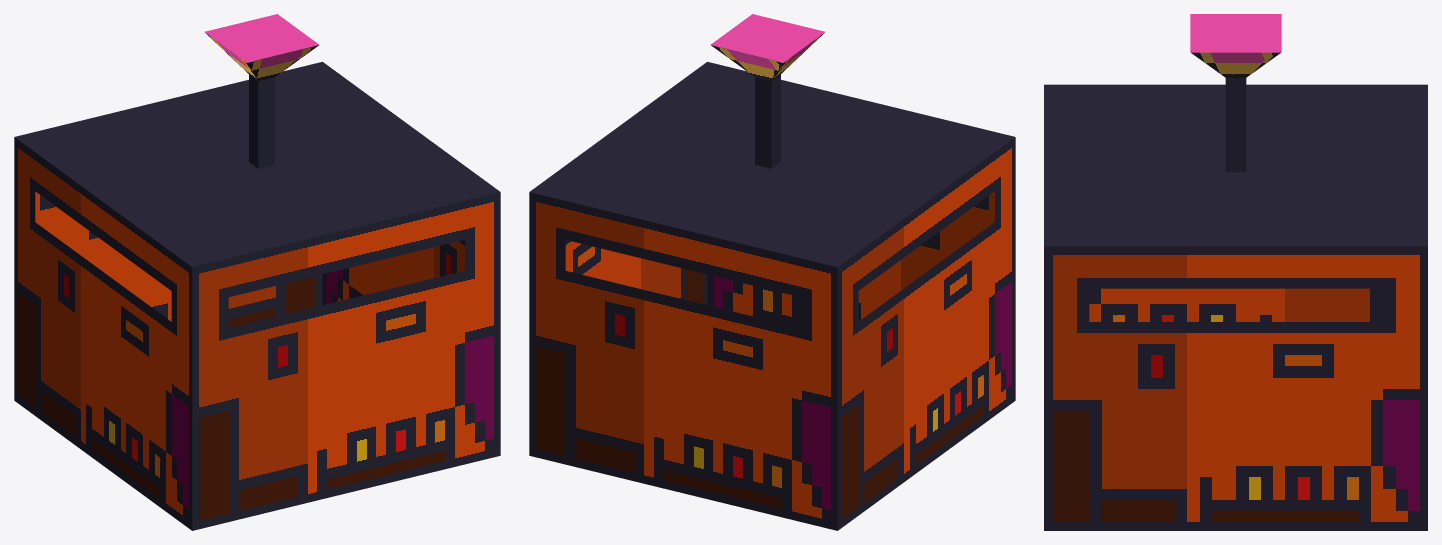
The model's file is edificioD1.fbx.
3 renders of one model, left to right at view 1: azimuth 30°, elevation 25°; view 2: azimuth 150°, elevation 25°; view 3: azimuth 270°, elevation 25°, orthographic. The views are drawn at different scales.
Parts seen in each view (by area): view 1: edificioD1; view 2: edificioD1; view 3: edificioD1.
Part boxes in pixels (box(x1,y1,x2,y2)): edificioD1: box(14, 14, 500, 530); edificioD1: box(529, 14, 1015, 530); edificioD1: box(1044, 14, 1427, 530).
Bounding box in the file's own units: 407 × 490 × 407.
